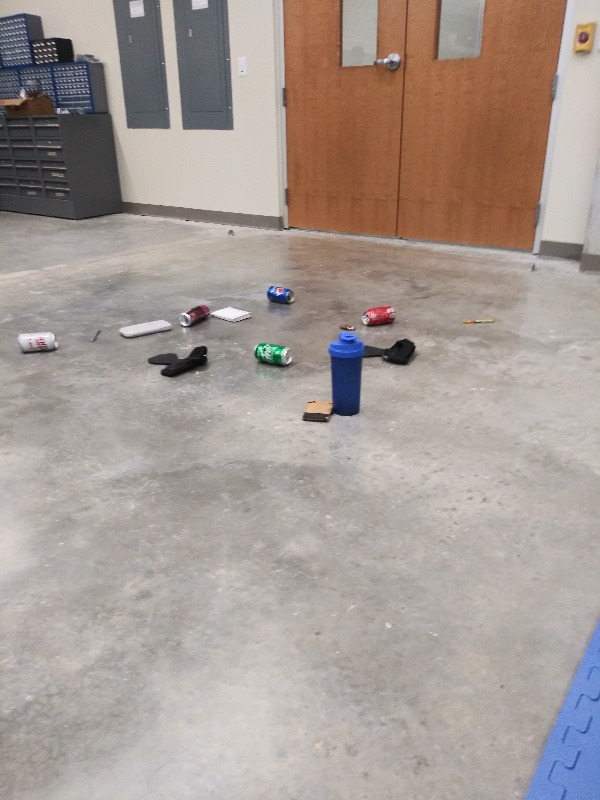can: (251, 339, 295, 370), (14, 327, 62, 354), (177, 301, 212, 329), (358, 305, 399, 327), (266, 283, 296, 306)
